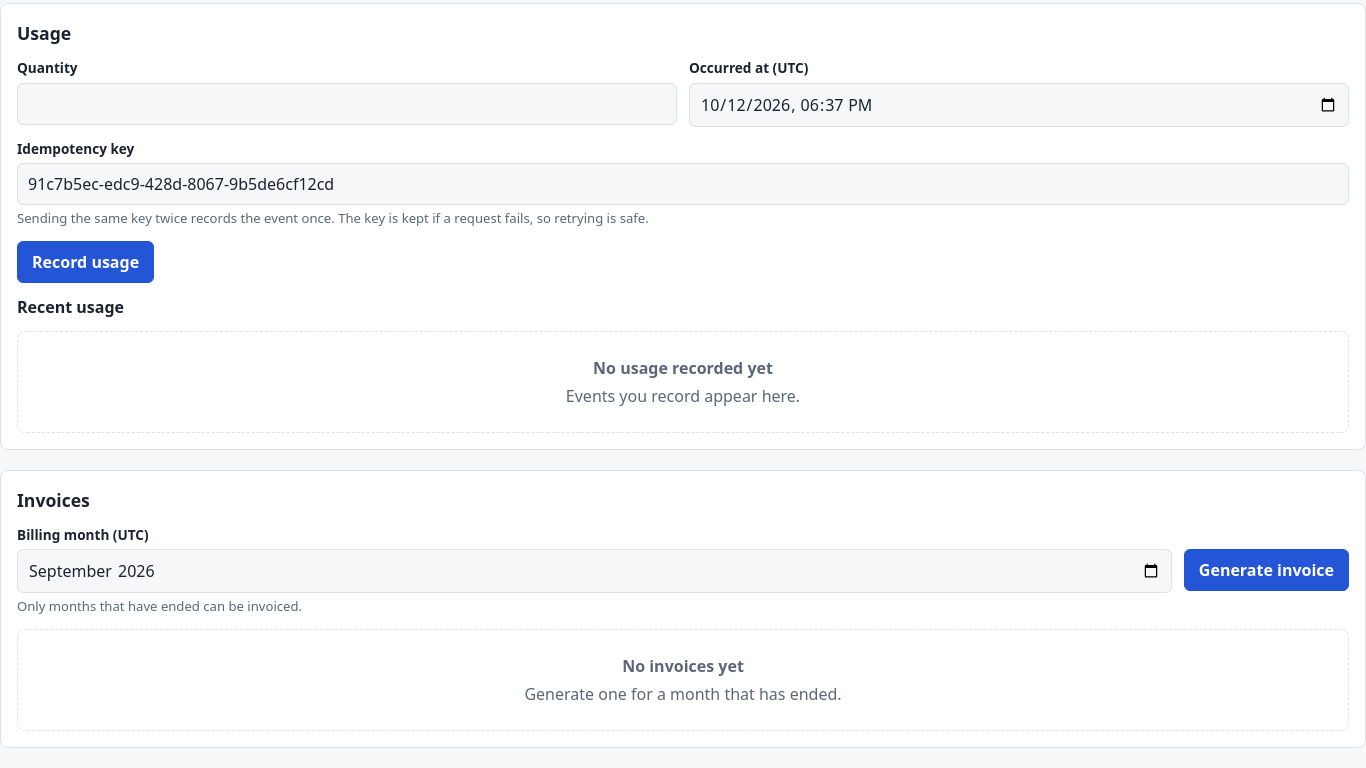
Scenario: customer page: invoices › turns a usage-without-subscription error into a next step
(page scrolled)
Click the button "Generate invoice" at (1266, 570), box [1184,549,1349,591]
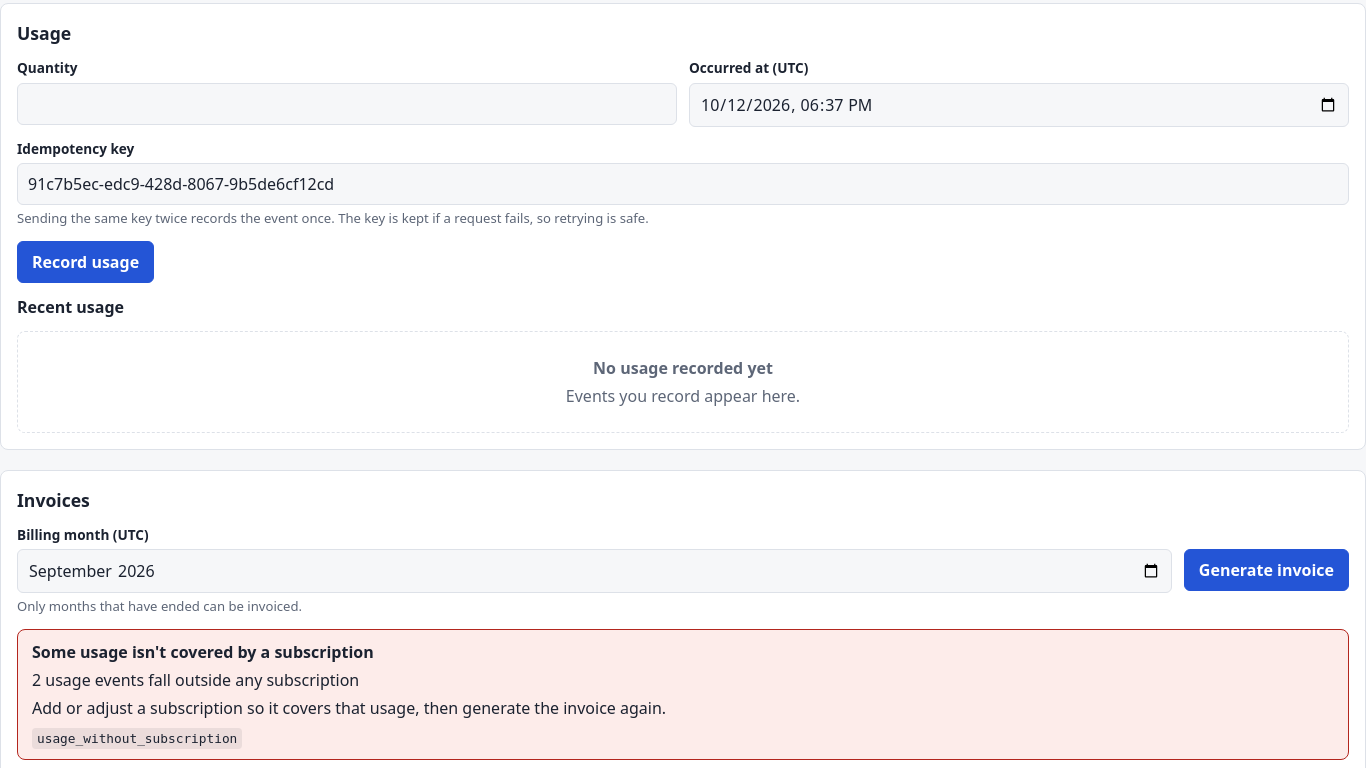
Expected: the text "Some usage isn't covered by a subscription" is shown, [32,641,374,663]
Expected: the text "Add or adjust a subscription" is shown, [32,697,666,719]
Expected: the text "2 usage events fall outside any subscription" is shown, [32,669,359,691]
